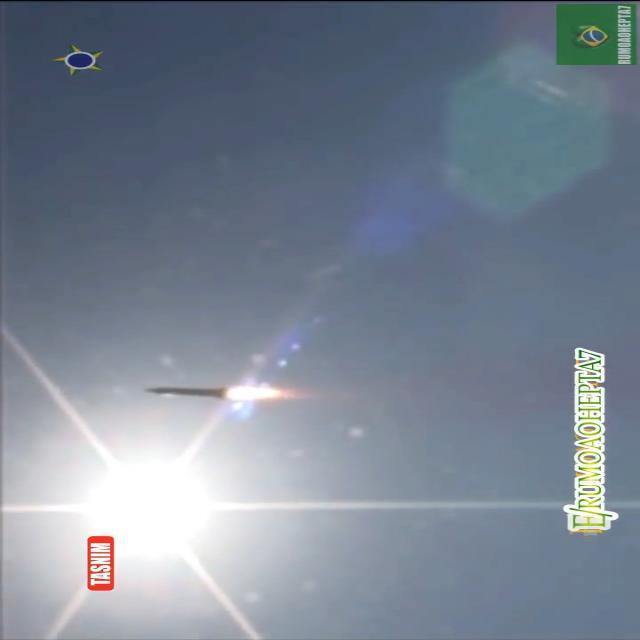Missile: (130, 382, 246, 404)
